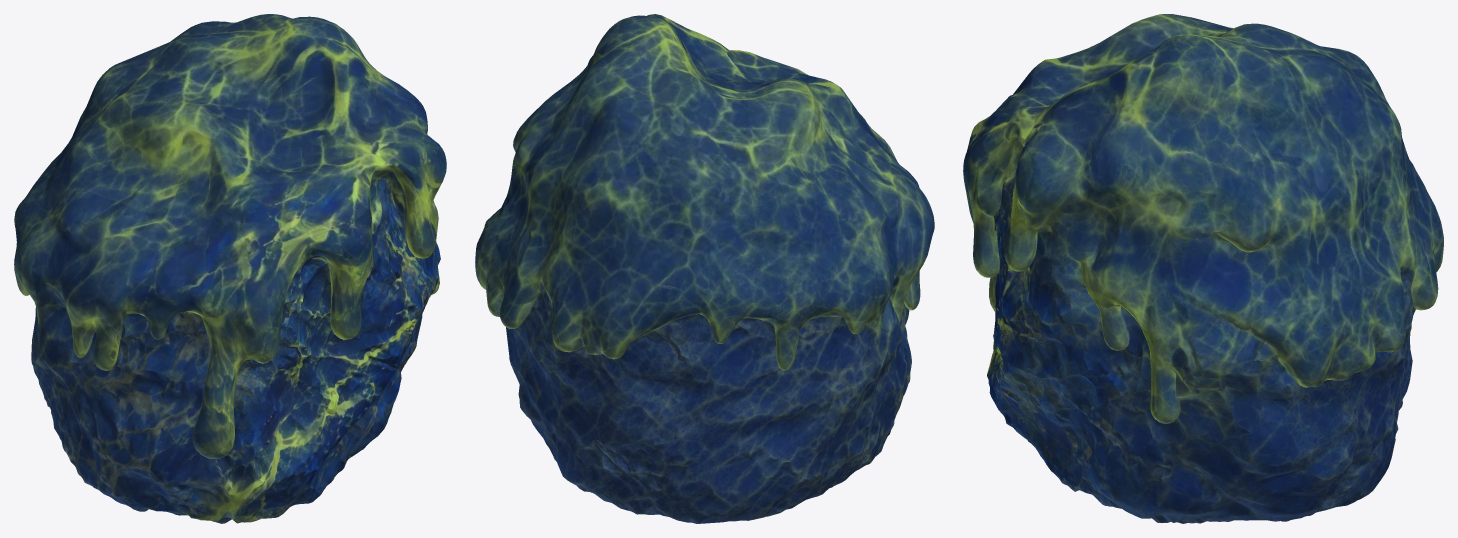
3 views of the same model, side by side, from view 1: azimuth 30°, elevation 25°; view 2: azimuth 150°, elevation 25°; view 3: azimuth 270°, elevation 25° (orthographic). The views are drawn at different scales.
Parts seen in each view (by area): view 1: Mesh_0; view 2: Mesh_0; view 3: Mesh_0.
Boxes of the visible parts, <box> form: Mesh_0: <box>14,14,446,523</box>; Mesh_0: <box>475,14,934,523</box>; Mesh_0: <box>963,14,1443,523</box>.
Size of the model in its own units: 1.82 by 1.9 by 1.71.
1 material, 1 textured.
